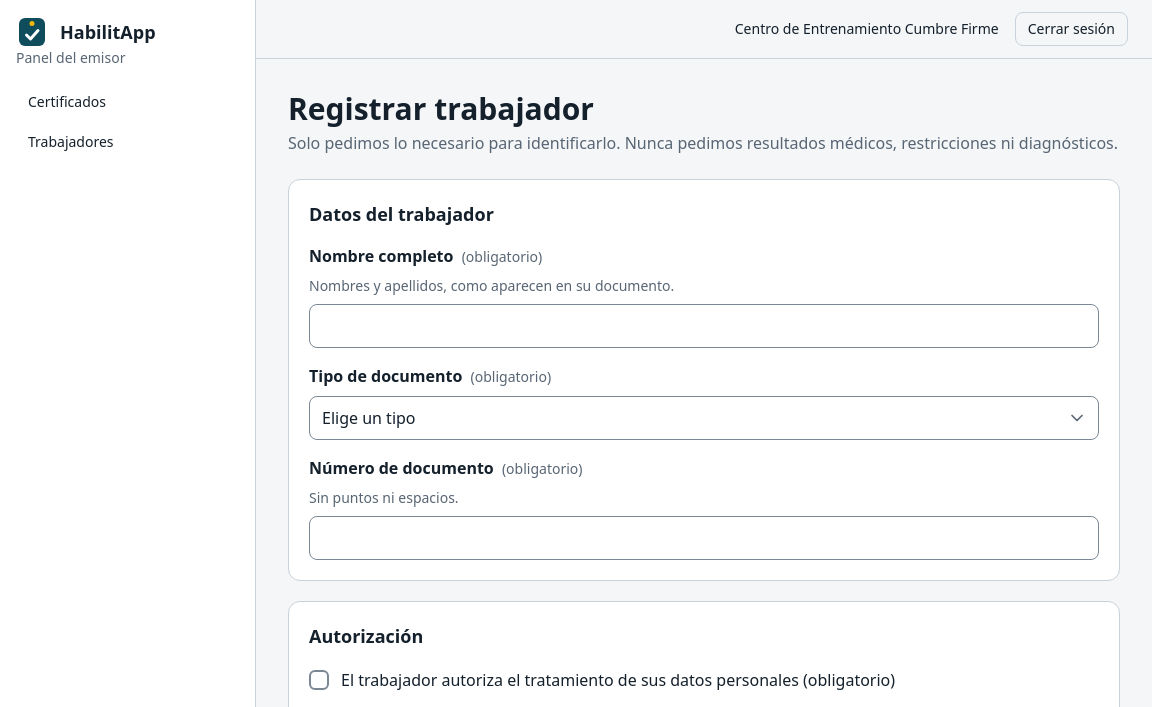
Scenario: RegisterWorkerPage › shows a generic failure when the API fails for any other reason
Type "Marta Lucía Gómez Ríos" into the field labelled "Nombre completo (obligatorio)". click: [704, 326]
box: [309, 304, 1099, 348]
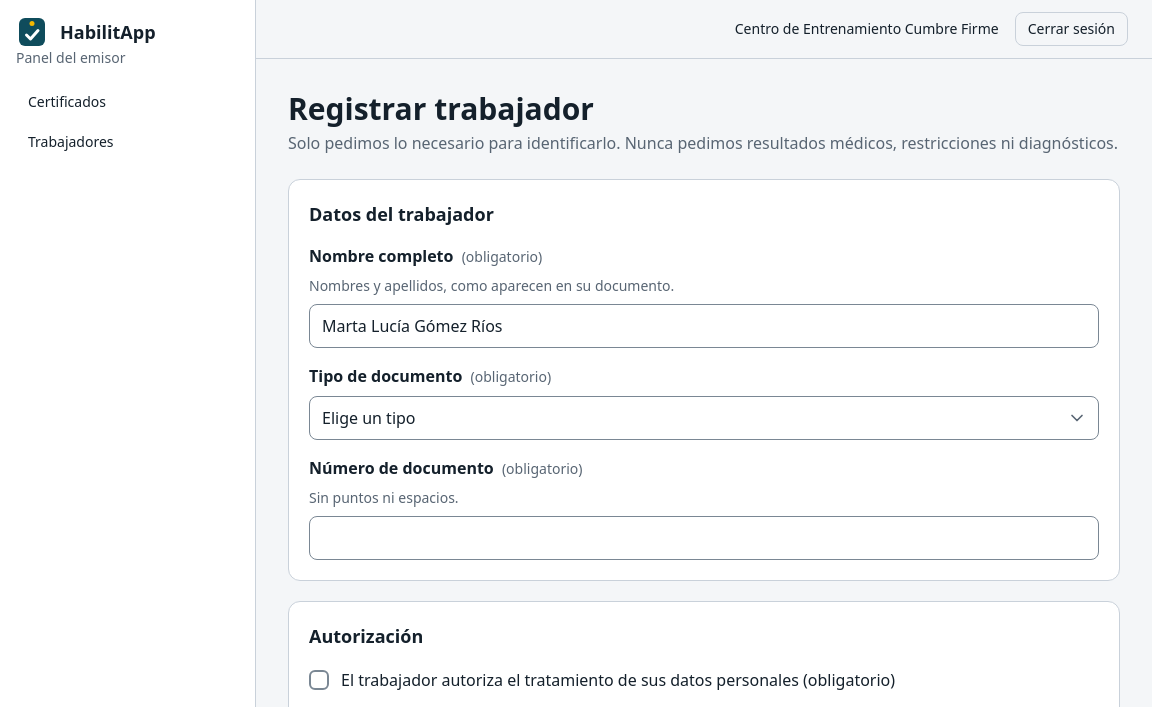
Select "Cédula de ciudadanía" in the dropdown labelled "Tipo de documento (obligatorio)". click: [704, 418]
box: [309, 396, 1099, 440]
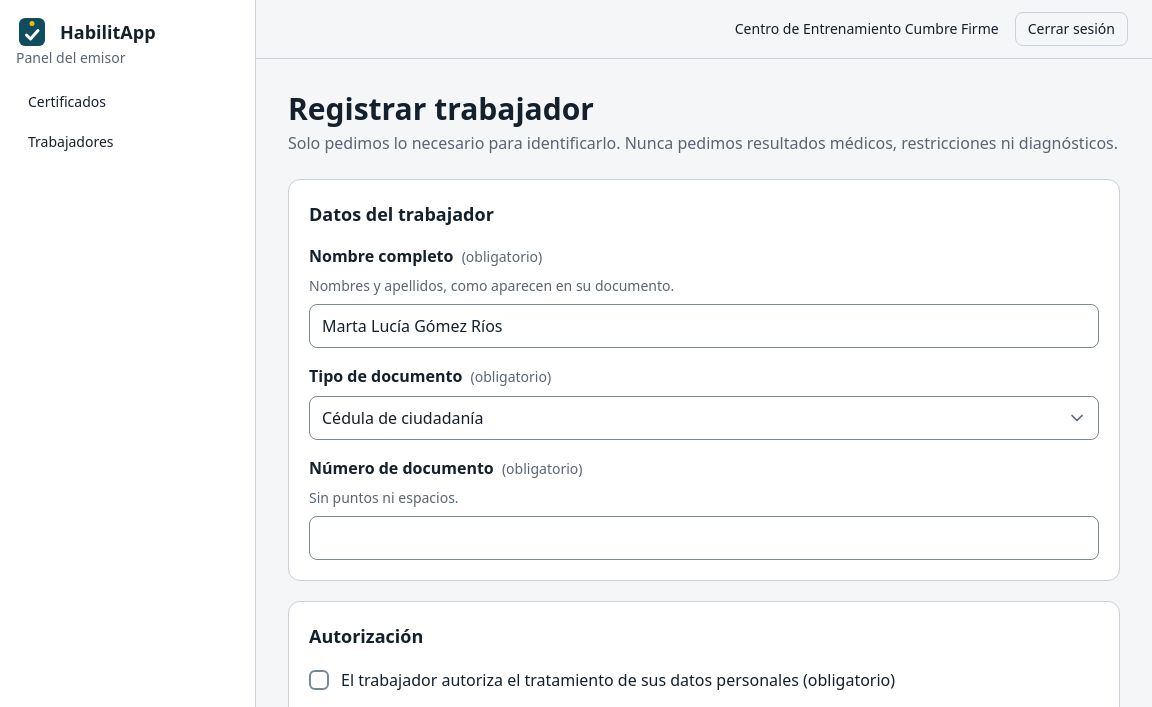
Type "1037456789" into the field labelled "Número de documento (obligatorio)". click: [704, 538]
box: [309, 516, 1099, 560]
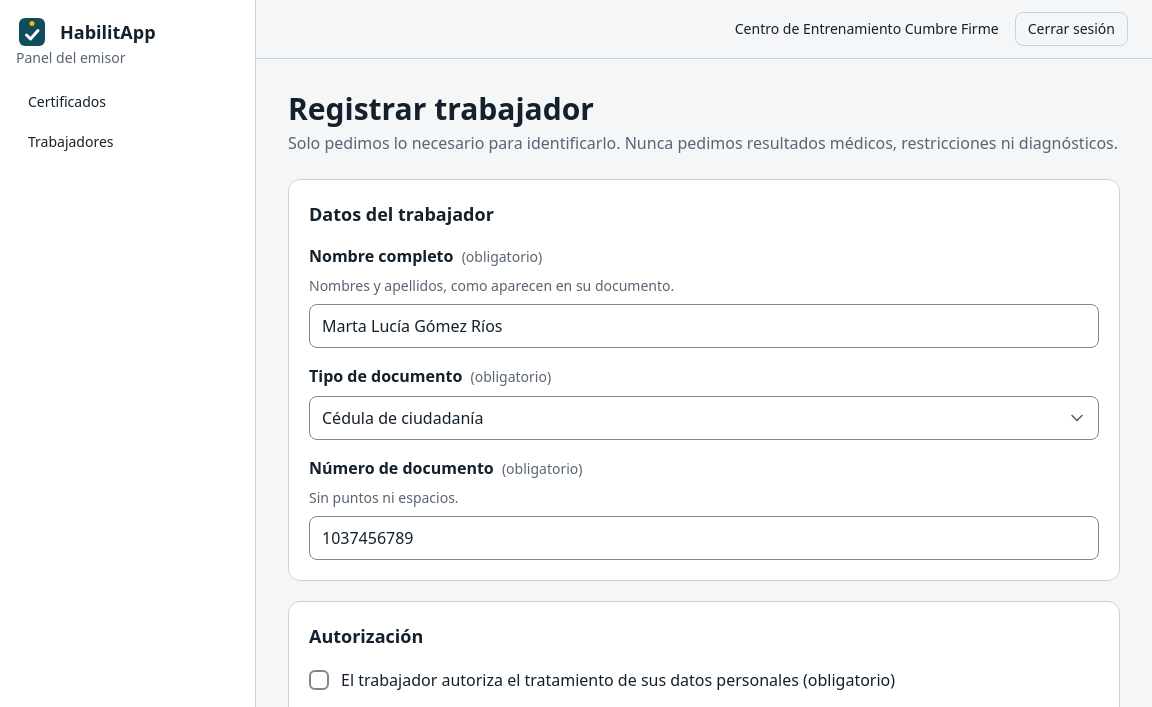
Click the checkbox labelled "autoriza el tratamiento". click: [319, 680]
box: [309, 670, 329, 690]
(page scrolled)
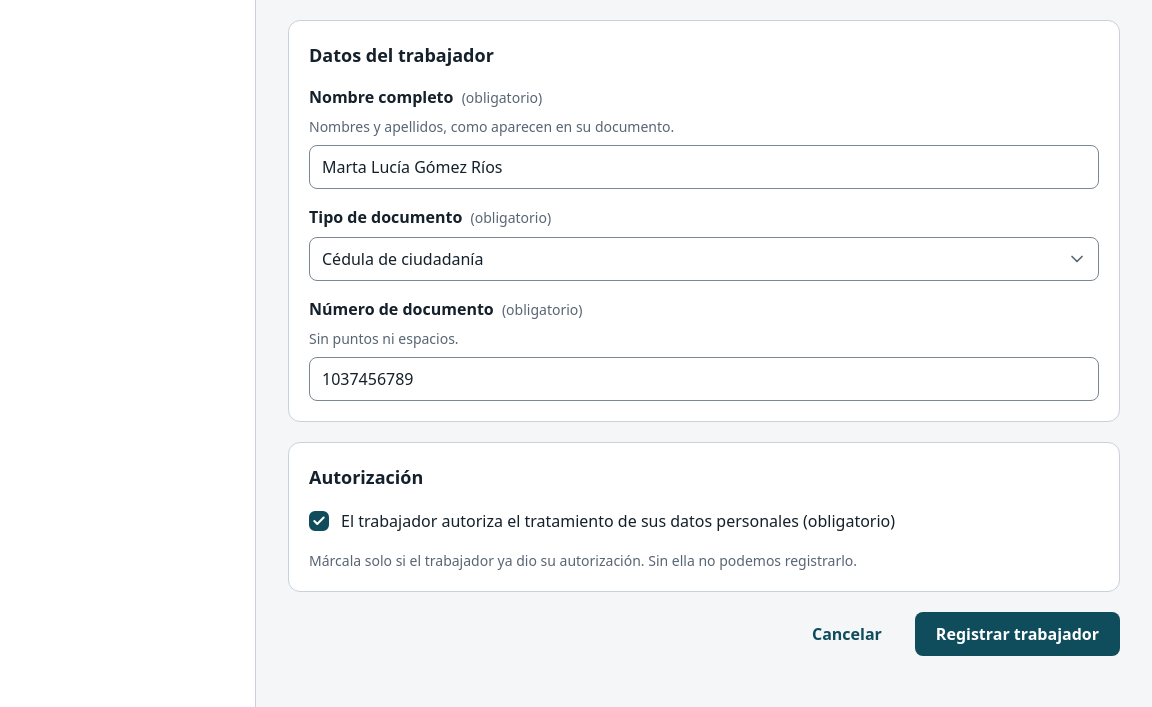
Click the button "Registrar trabajador". click: [1017, 634]
box: [915, 612, 1120, 656]
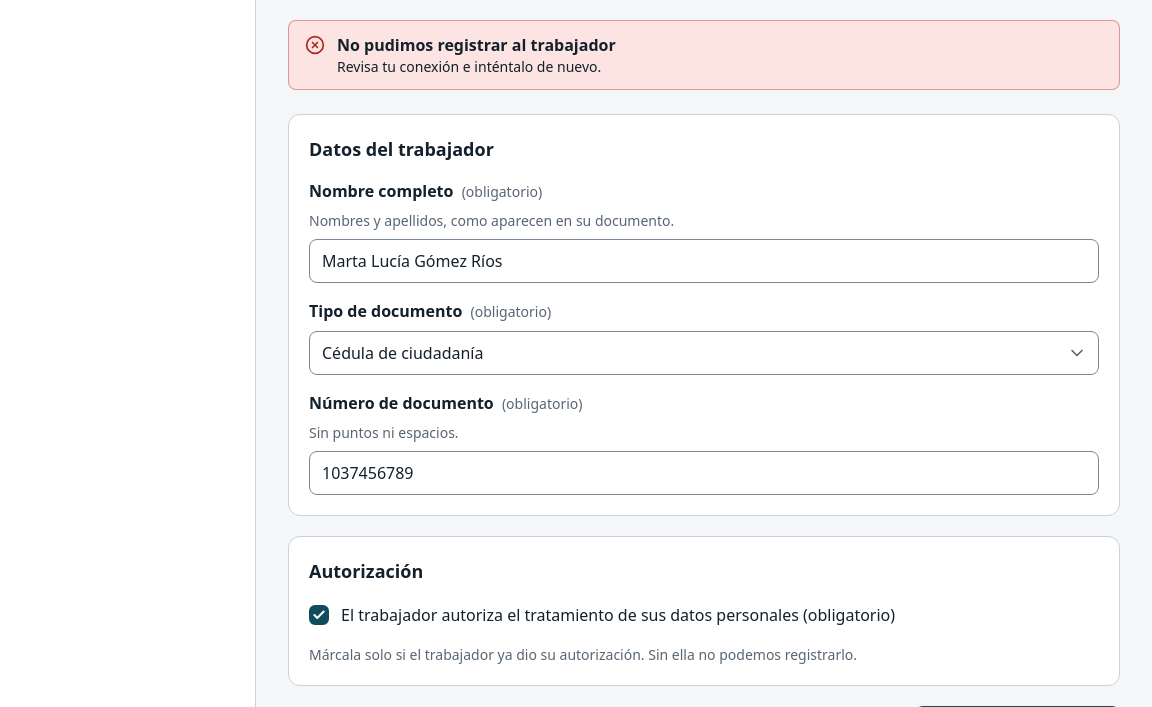
expect the text "No pudimos registrar al trabajador" is shown: met, box [337, 34, 616, 56]
